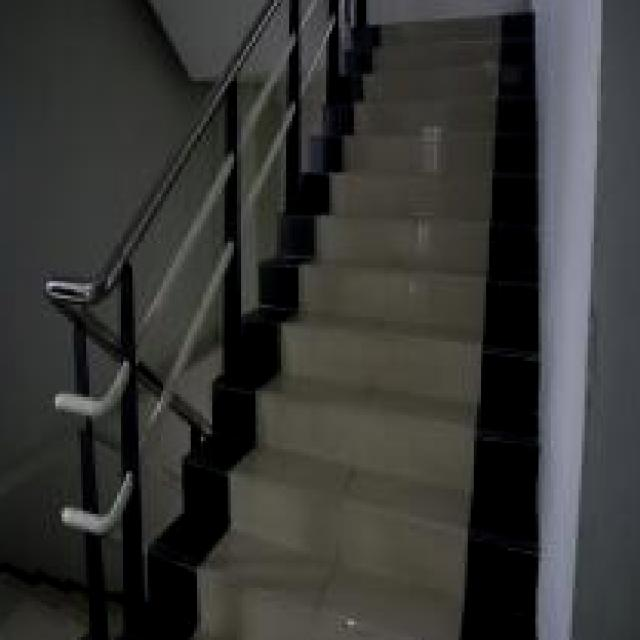upstair: (355, 1, 536, 640)
